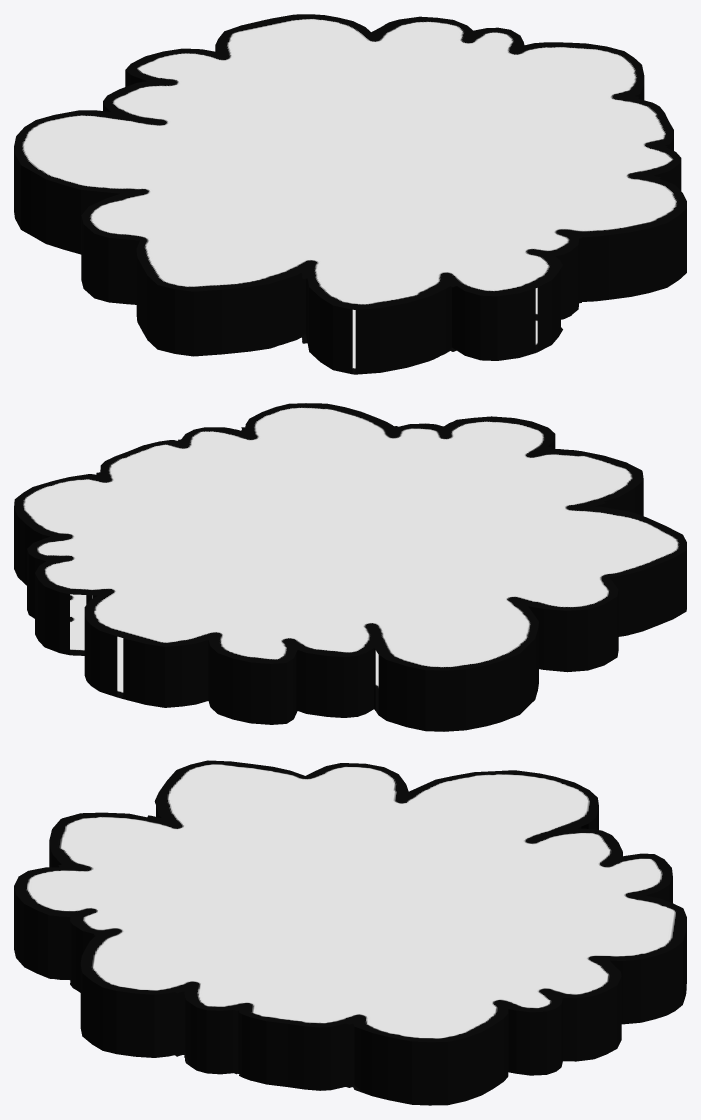
File: map.obj
The picture shows the model from 3 angles, top to bottom: view 1: azimuth 30°, elevation 25°; view 2: azimuth 150°, elevation 25°; view 3: azimuth 270°, elevation 25°; orthographic projection. The views are drawn at different scales.
Visible parts, largest first — view 1: cloud; view 2: cloud; view 3: cloud.
Boxes of the visible parts, <box> form: cloud: <box>14,14,686,374</box>; cloud: <box>14,403,686,731</box>; cloud: <box>14,760,686,1105</box>.
Bounding box in the file's own units: 10 × 1.05 × 10.1.
1 material, 1 textured.
